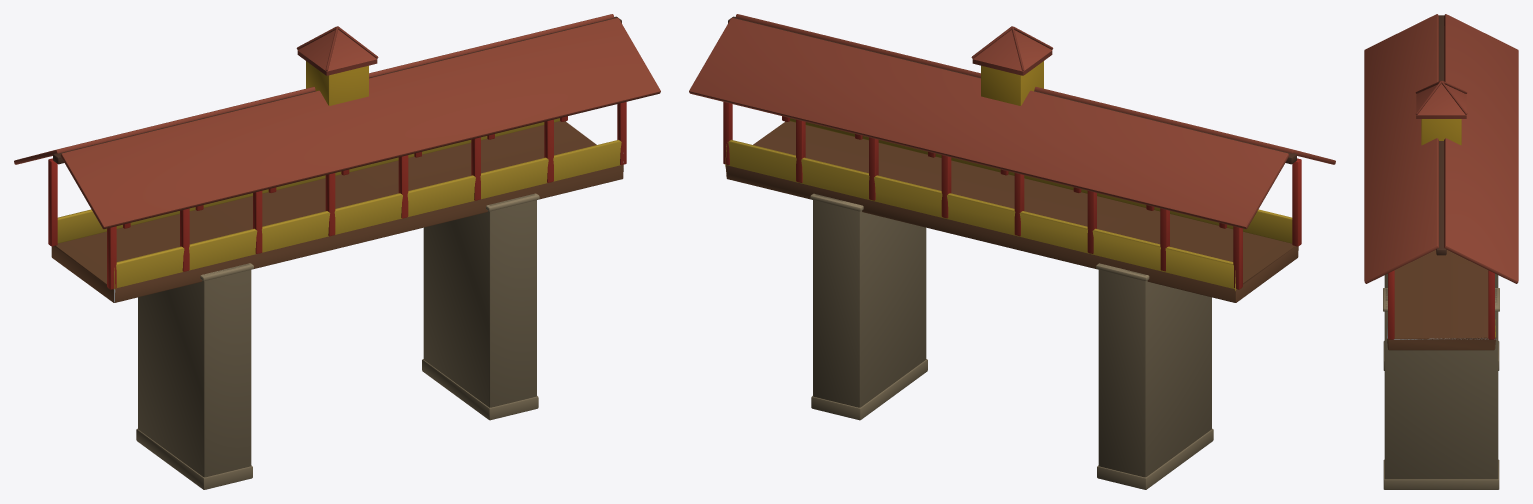
The model's file is br-chuacau.glb.
3 views of the same model, side by side, from view 1: azimuth 30°, elevation 25°; view 2: azimuth 150°, elevation 25°; view 3: azimuth 270°, elevation 25° (orthographic). The views are drawn at different scales.
Bounding box in the file's own units: 16.6 × 11.19 × 4.6.
